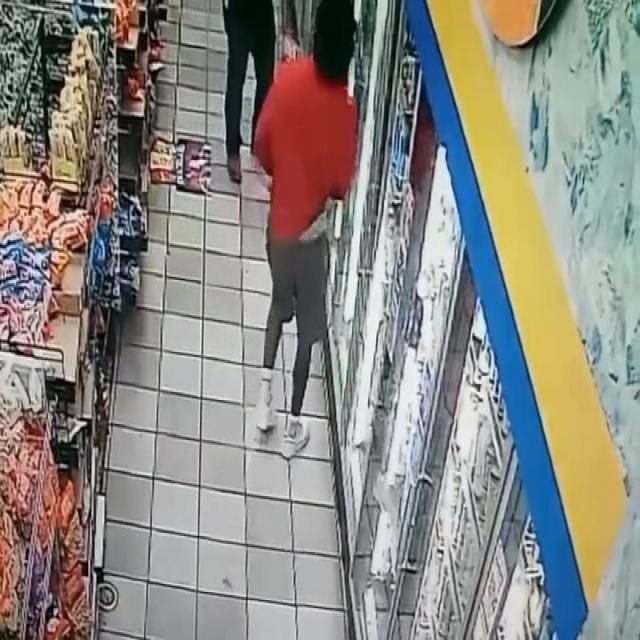Normal: (252, 0, 368, 464)
